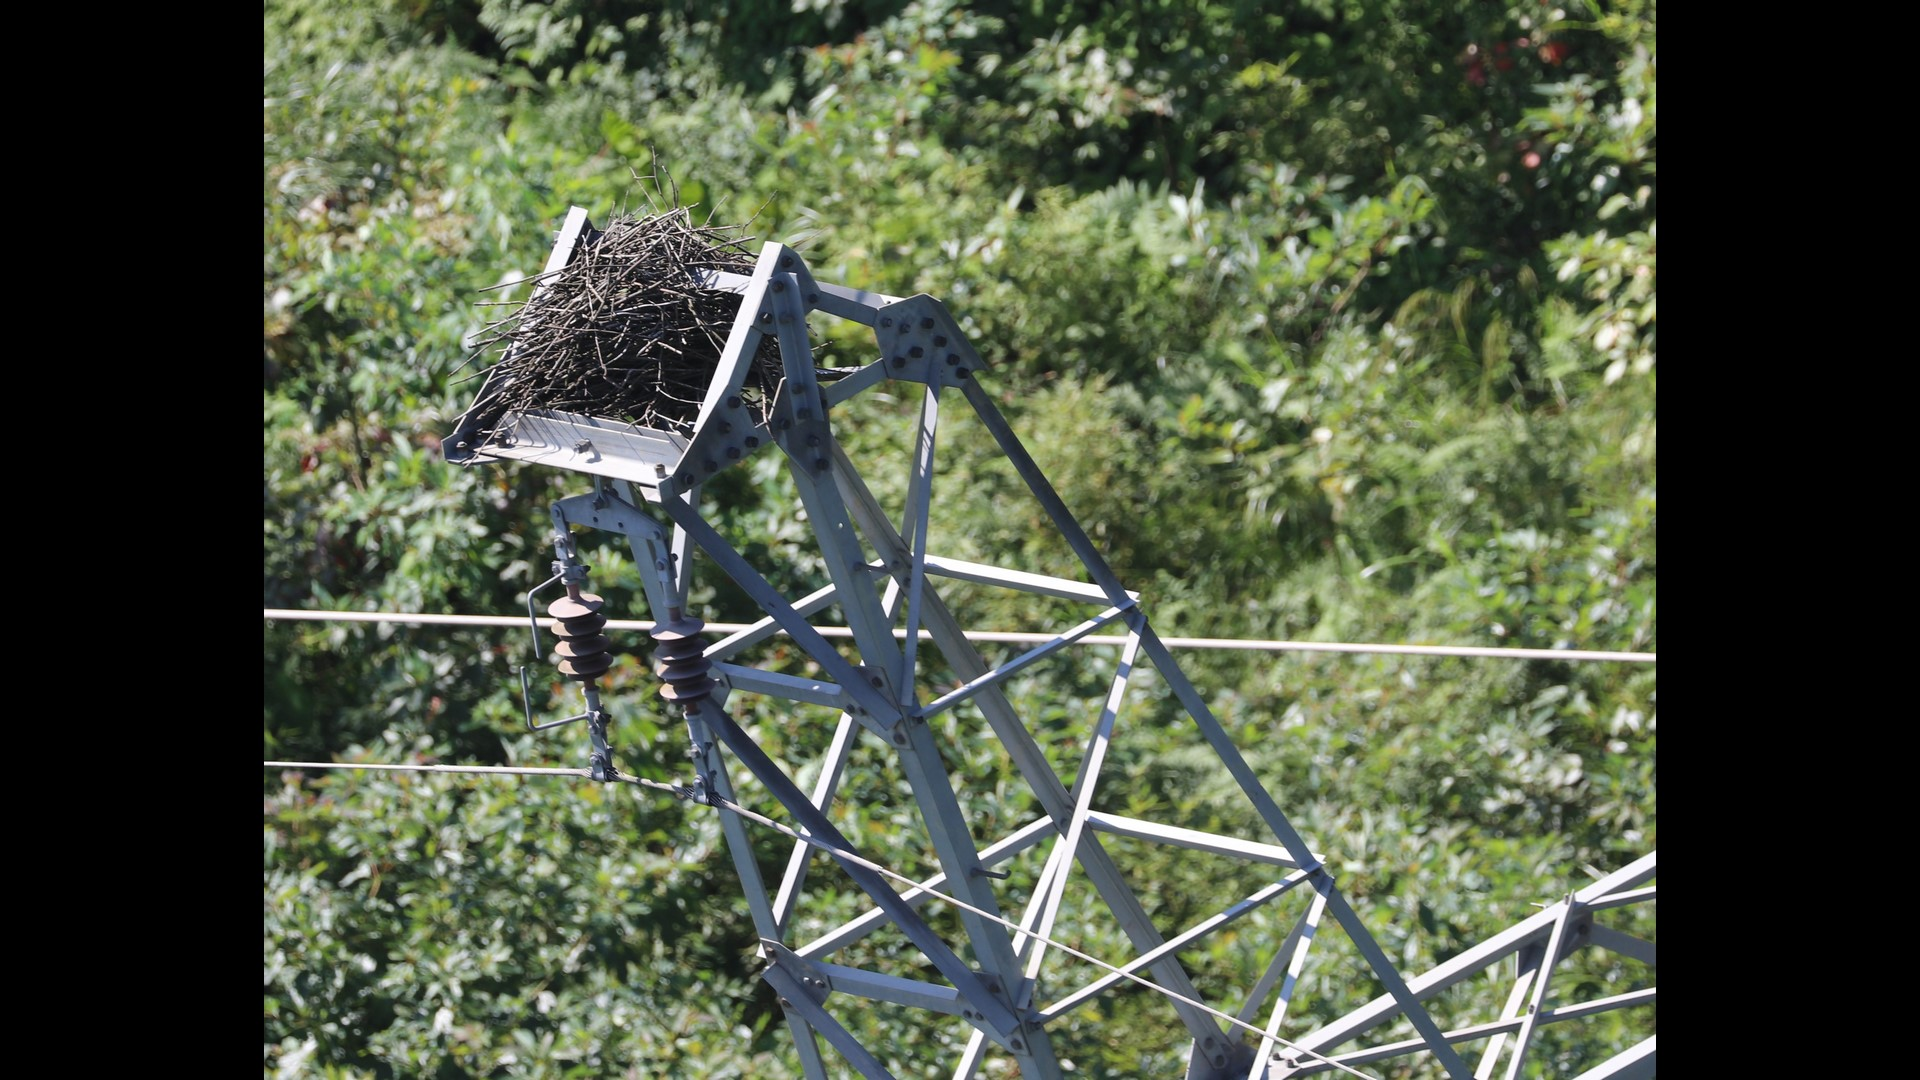niaowo: (450, 196, 802, 440)
